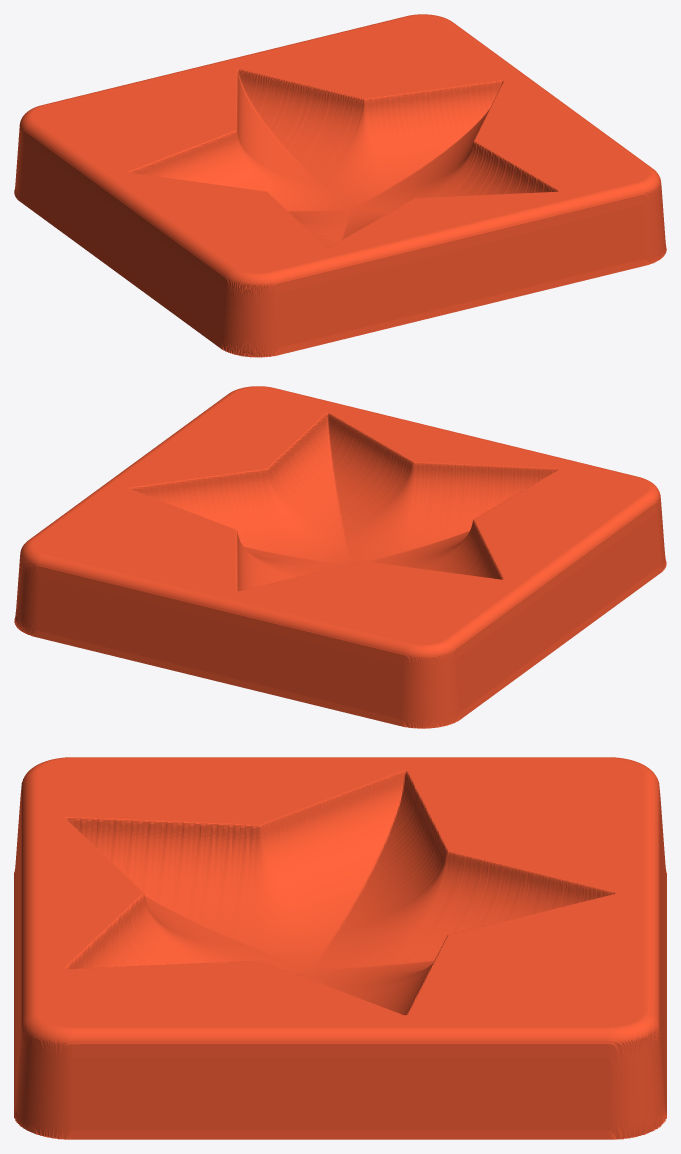
Rendered from mold.glb.
3 views of the same model, one above another, from view 1: azimuth 30°, elevation 25°; view 2: azimuth 150°, elevation 25°; view 3: azimuth 270°, elevation 25° (orthographic). The views are drawn at different scales.
Parts seen in each view (by area): view 1: geometry_0; view 2: geometry_0; view 3: geometry_0.
Boxes of the visible parts, x1,y1,x2,y2 form: geometry_0: [14, 14, 666, 357]; geometry_0: [14, 386, 666, 728]; geometry_0: [14, 757, 666, 1139].
Size of the model in its own units: 0.105 by 0.0175 by 0.1006.
